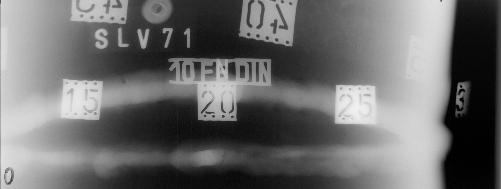FF: (232, 148, 288, 167)
TR: (215, 147, 229, 165)
